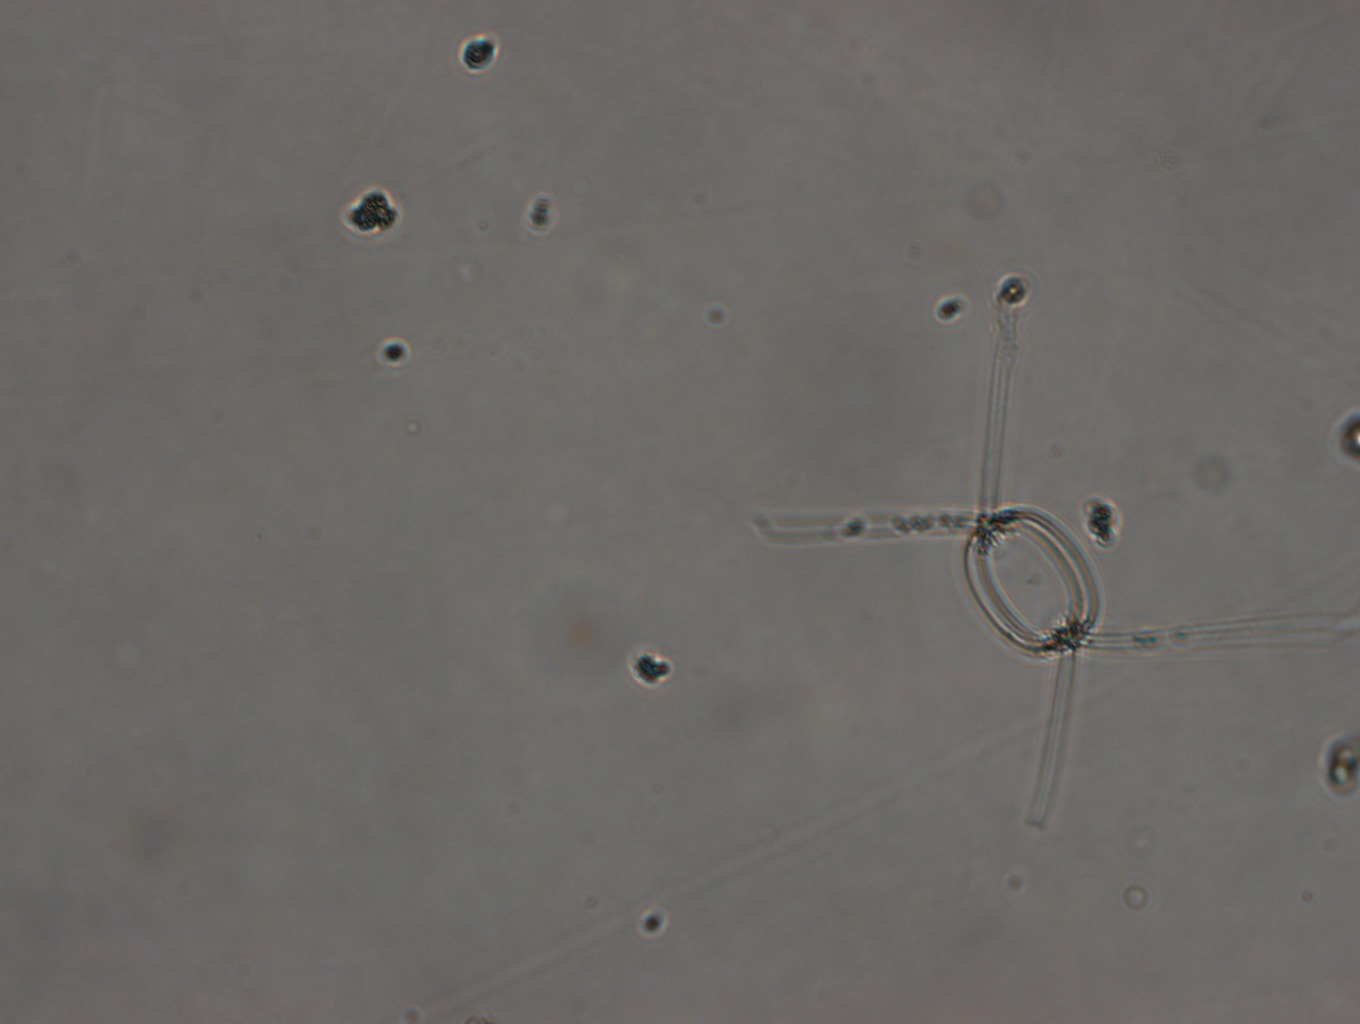chaetoceros: (765, 308, 1230, 826)
